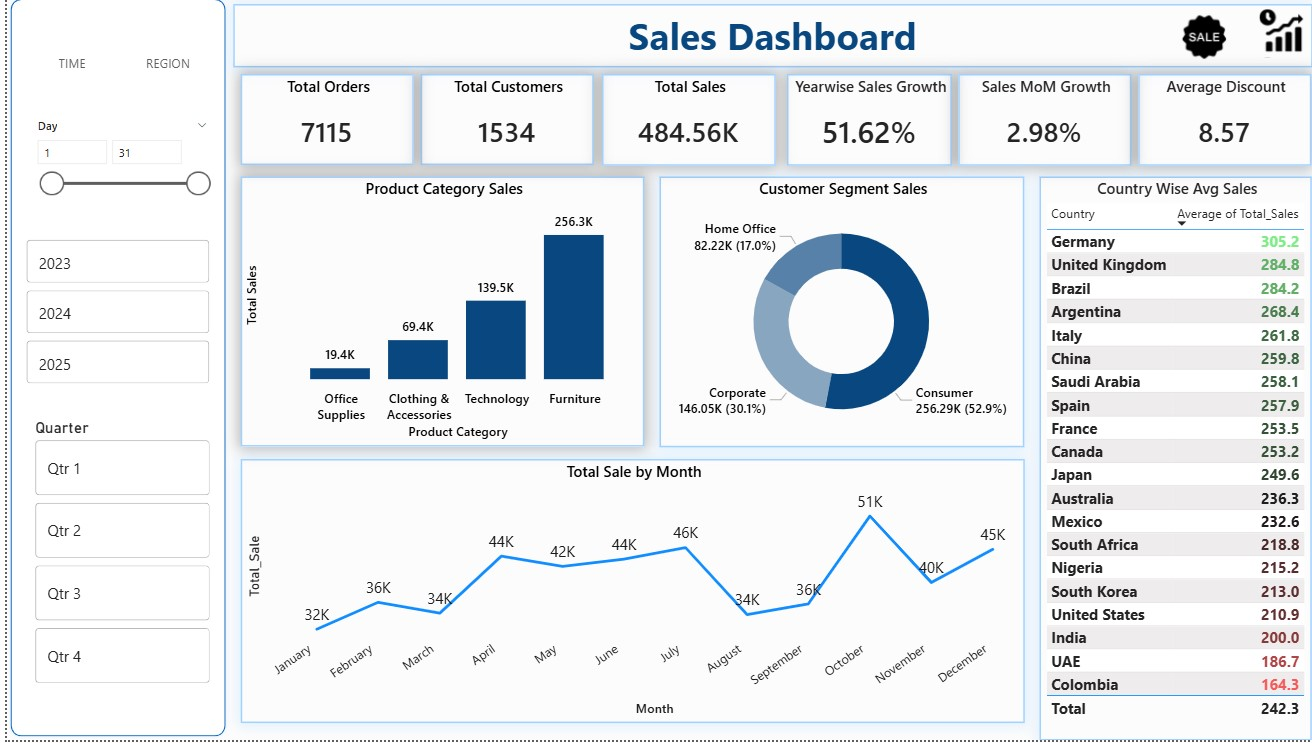

The dashboard page shown, as its layout file describes it:
{"tool":"powerbi","page":{"name":"Sales","canvas":[1400,800],"ordinal":0},"visuals":[{"type":"actionButton","title":"Time Button","box":[18.6,50.3,102.4,48.4],"z":0,"group":"g2"},{"type":"cardVisual","title":"Total Customers","fields":{"Data":["ecommerceSales.Total_Customers"]},"box":[443.8,86,185.2,97.6],"z":0,"group":"g1"},{"type":"advancedSlicerVisual","fields":{"Values":["ecommerceSales.Order_Date.Variation.Date Hierarchy.Year"]},"box":[16.8,258.8,206.6,165.7],"z":0,"group":"g3"},{"type":"shape","title":"Sales Dashboard","box":[242,11.1,1157.7,68],"z":1000},{"type":"actionButton","title":"Region Buutton","box":[121,50.3,104.3,48.4],"z":1000,"group":"g2"},{"type":"cardVisual","title":"Yearwise Sales Growth","fields":{"Data":["ecommerceSales.Sales YoY Growth %"]},"box":[836.7,85.7,176.6,98.4],"z":1000,"group":"g1"},{"type":"advancedSlicerVisual","fields":{"Values":["ecommerceSales.Order_Date.Variation.Date Hierarchy.Quarter"]},"box":[26.1,454.3,197.3,290.4],"z":1000,"group":"g3"},{"type":"actionButton","title":"Profits","box":[1339.6,11.1,60.1,63.3],"z":1500},{"type":"actionButton","title":"Sales","box":[1254.2,15.8,58.5,60.1],"z":2000},{"type":"cardVisual","title":"Sales MoM Growth","fields":{"Data":["ecommerceSales.Sales MoM Growth %"]},"box":[1021.2,85.6,185.3,98.4],"z":2000,"group":"g1"},{"type":"slicer","fields":{"Values":["ecommerceSales.Order_Date.Variation.Date Hierarchy.Day"]},"box":[20.5,128.5,206.6,109.8],"z":2000,"group":"g3"},{"type":"cardVisual","title":"Average Discount","fields":{"Data":["ecommerceSales.Avg_Discount"]},"box":[1213.7,85.6,185.3,98.4],"z":3000,"group":"g1"},{"type":"tableEx","title":"Country Wise Avg Sales","fields":{"Values":["ecommerceSales.Country","Avg(ecommerceSales.Total_Sales)"]},"box":[1107.7,195.5,292.3,605.1],"z":3000},{"type":"group","id":"g1","title":"Group 2","box":[251.3,85.6,1148.7,98.7],"z":4000},{"type":"cardVisual","title":"Total Orders","fields":{"Data":["ecommerceSales.Total_Orders"]},"box":[251.3,86,185.2,97.6],"z":4000,"group":"g1"},{"type":"donutChart","title":" Customer Segment Sales","fields":{"Category":["ecommerceSales.Customer_Segment"],"Y":["ecommerceSales.Total_Sale"]},"box":[700,195.5,391,290.4],"z":5000},{"type":"clusteredColumnChart","title":" Product Category Sales","fields":{"Category":["ecommerceSales.Product_Category"],"Y":["ecommerceSales.Total_Sale"]},"box":[250.7,195.7,433,289.5],"z":6000},{"type":"cardVisual","title":"Total Sales","fields":{"Data":["ecommerceSales.Total_Sale"]},"box":[638.6,85.6,186.2,98.7],"z":7000},{"type":"lineChart","title":"Total Sale by Month","fields":{"Category":["ecommerceSales.Order_Date.Variation.Date Hierarchy.Month"],"Y":["ecommerceSales.Total_Sale"]},"box":[250.7,498.7,840.5,282.8],"z":8000},{"type":"shape","title":"side pannel","box":[0,1.9,238.3,798.7],"z":9000},{"type":"group","id":"g2","title":"Group 1","box":[18.6,50.3,206.6,48.4],"z":10000},{"type":"group","id":"g3","title":"Group 3","box":[16.8,128.5,210.4,616.2],"z":11000}]}

Visuals, with their boxes in screenshot pixels (x1, y1, x2, y2), scaled from the page's 1400x800 canvas onto the 1312x743 screenshot:
"Time Button" actionButton: (x1=17, y1=47, x2=113, y2=92)
"Total Customers" cardVisual: (x1=416, y1=80, x2=589, y2=171)
advancedSlicerVisual - ecommerceSales.Order_Date.Variation.Date Hierarchy.Year: (x1=16, y1=240, x2=209, y2=394)
"Sales Dashboard" shape: (x1=227, y1=10, x2=1311, y2=73)
"Region Buutton" actionButton: (x1=113, y1=47, x2=211, y2=92)
"Yearwise Sales Growth" cardVisual: (x1=784, y1=80, x2=950, y2=171)
advancedSlicerVisual - ecommerceSales.Order_Date.Variation.Date Hierarchy.Quarter: (x1=24, y1=422, x2=209, y2=692)
"Profits" actionButton: (x1=1255, y1=10, x2=1311, y2=69)
"Sales" actionButton: (x1=1175, y1=15, x2=1230, y2=70)
"Sales MoM Growth" cardVisual: (x1=957, y1=80, x2=1131, y2=171)
slicer - ecommerceSales.Order_Date.Variation.Date Hierarchy.Day: (x1=19, y1=119, x2=213, y2=221)
"Average Discount" cardVisual: (x1=1137, y1=80, x2=1311, y2=171)
"Country Wise Avg Sales" tableEx: (x1=1038, y1=182, x2=1311, y2=742)
"Group 2" group: (x1=236, y1=80, x2=1311, y2=171)
"Total Orders" cardVisual: (x1=236, y1=80, x2=409, y2=171)
" Customer Segment Sales" donutChart: (x1=656, y1=182, x2=1022, y2=451)
" Product Category Sales" clusteredColumnChart: (x1=235, y1=182, x2=641, y2=451)
"Total Sales" cardVisual: (x1=598, y1=80, x2=773, y2=171)
"Total Sale by Month" lineChart: (x1=235, y1=463, x2=1023, y2=726)
"side pannel" shape: (x1=0, y1=2, x2=223, y2=742)
"Group 1" group: (x1=17, y1=47, x2=211, y2=92)
"Group 3" group: (x1=16, y1=119, x2=213, y2=692)
